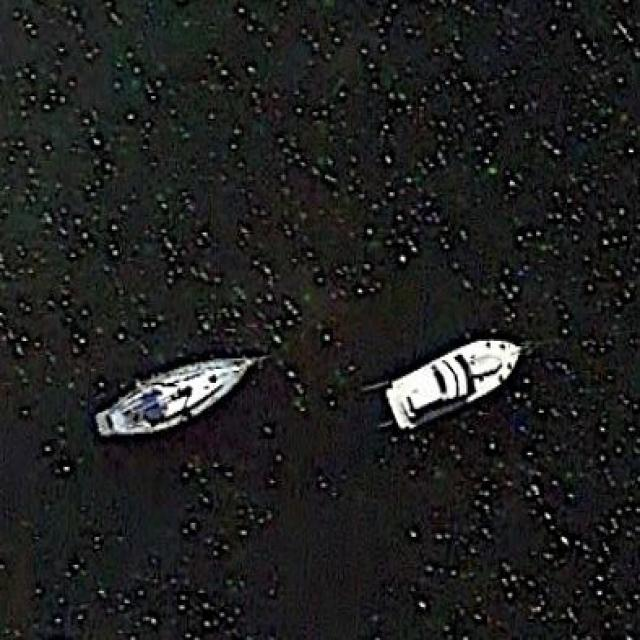ship: (94, 352, 262, 436), (383, 336, 525, 428)
